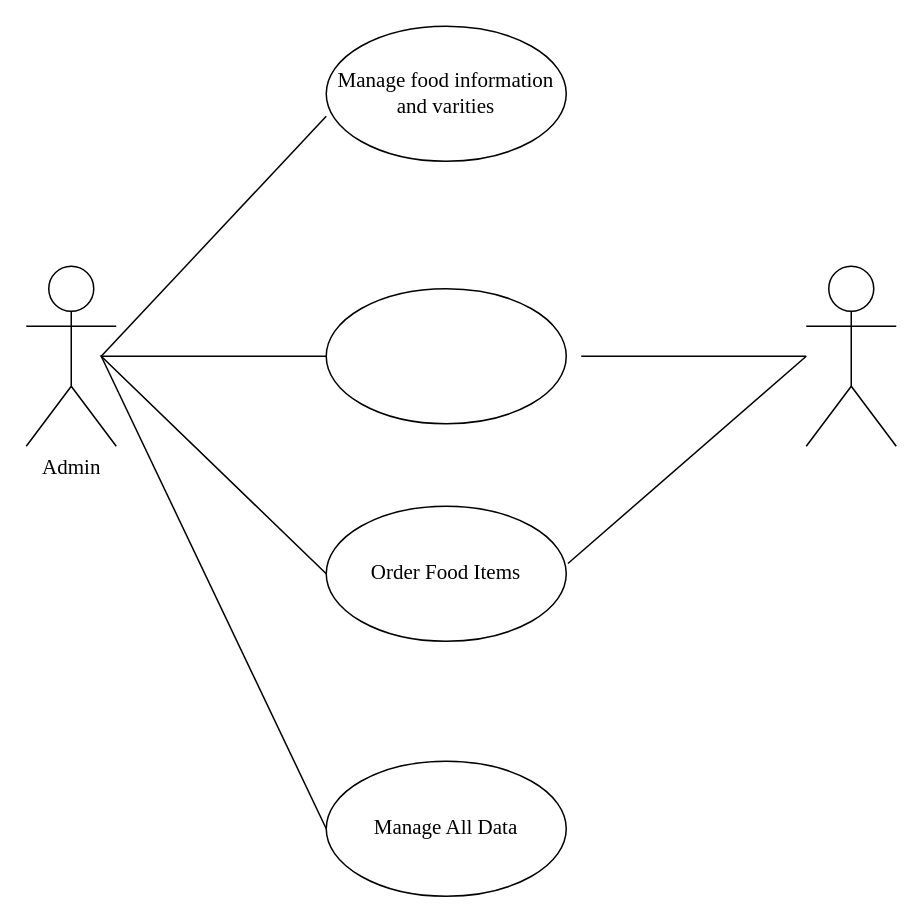
Image size: 923x923. Some labels were removed from this diagram. The centre of each missing label's shape, as x and y in pixels:
Cutsomer: the point at 850,355
Show/View Menus: the point at 445,355
